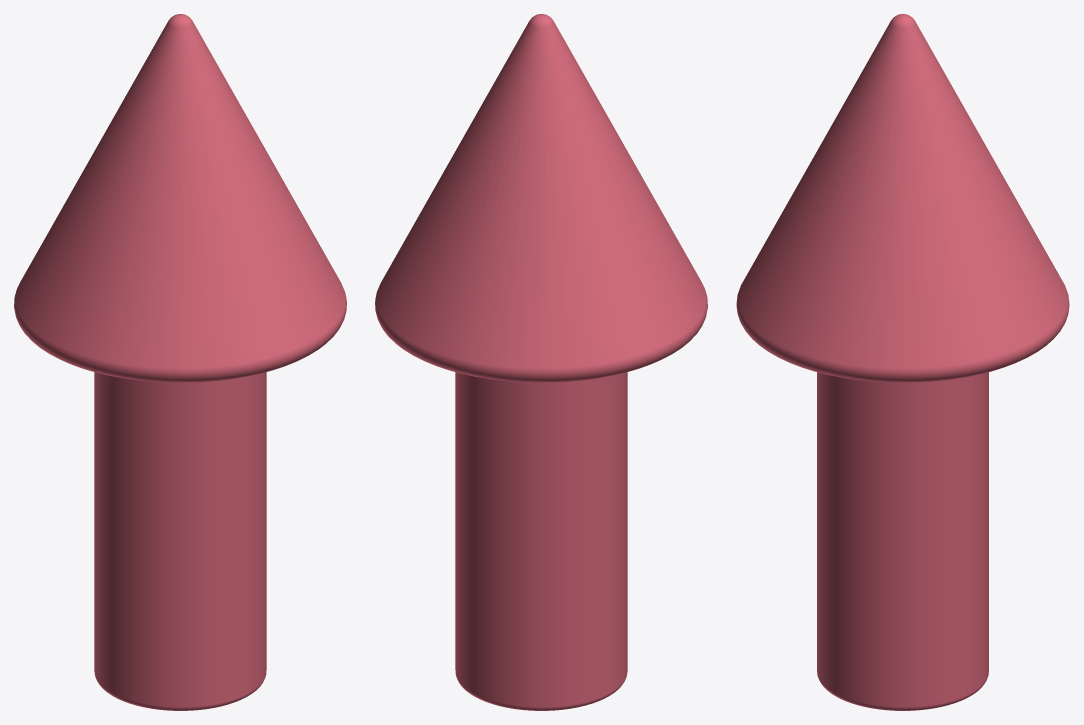
File: Red Arrow.gltf
3 views of the same model, side by side, from view 1: azimuth 30°, elevation 25°; view 2: azimuth 150°, elevation 25°; view 3: azimuth 270°, elevation 25° (orthographic).
Visible parts, largest first — view 1: Merged Objects; view 2: Merged Objects; view 3: Merged Objects.
Part boxes in pixels (x1,y1,x2,y2): Merged Objects: (14, 14, 346, 710); Merged Objects: (375, 14, 707, 710); Merged Objects: (736, 14, 1069, 710).
Bounding box in the file's own units: 0.2255 × 0.4942 × 0.2255.
